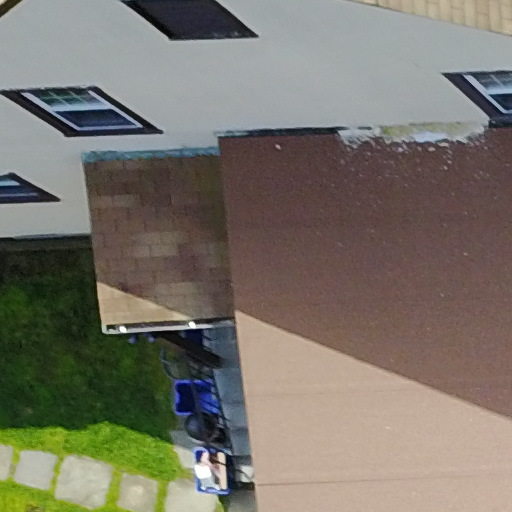container: (185, 409, 225, 444)
recycling bin: (165, 378, 233, 423), (188, 444, 239, 503)
